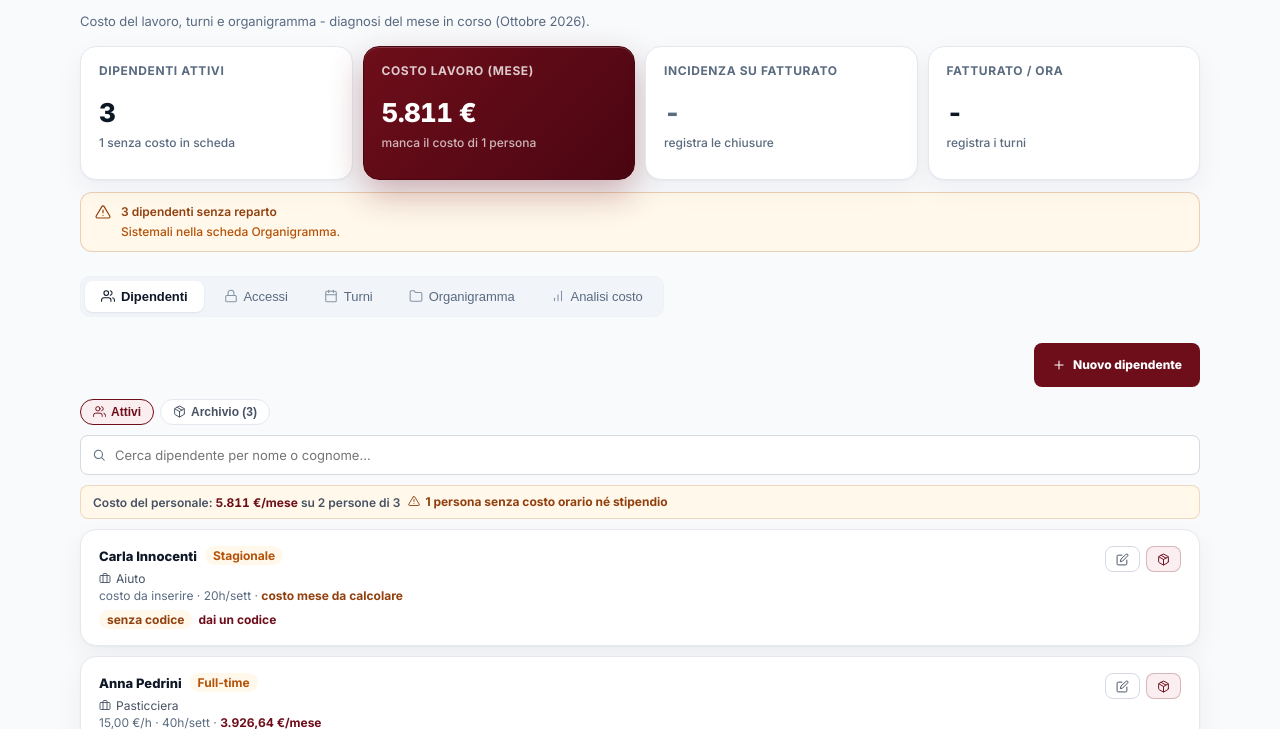
La settimana mostrata, e i confini che la spostano › attraversa il cambio dell'ora legale senza saltare un giorno
Click the button "Turni" at (348,296), box x1=308 y1=280 x2=389 y2=312
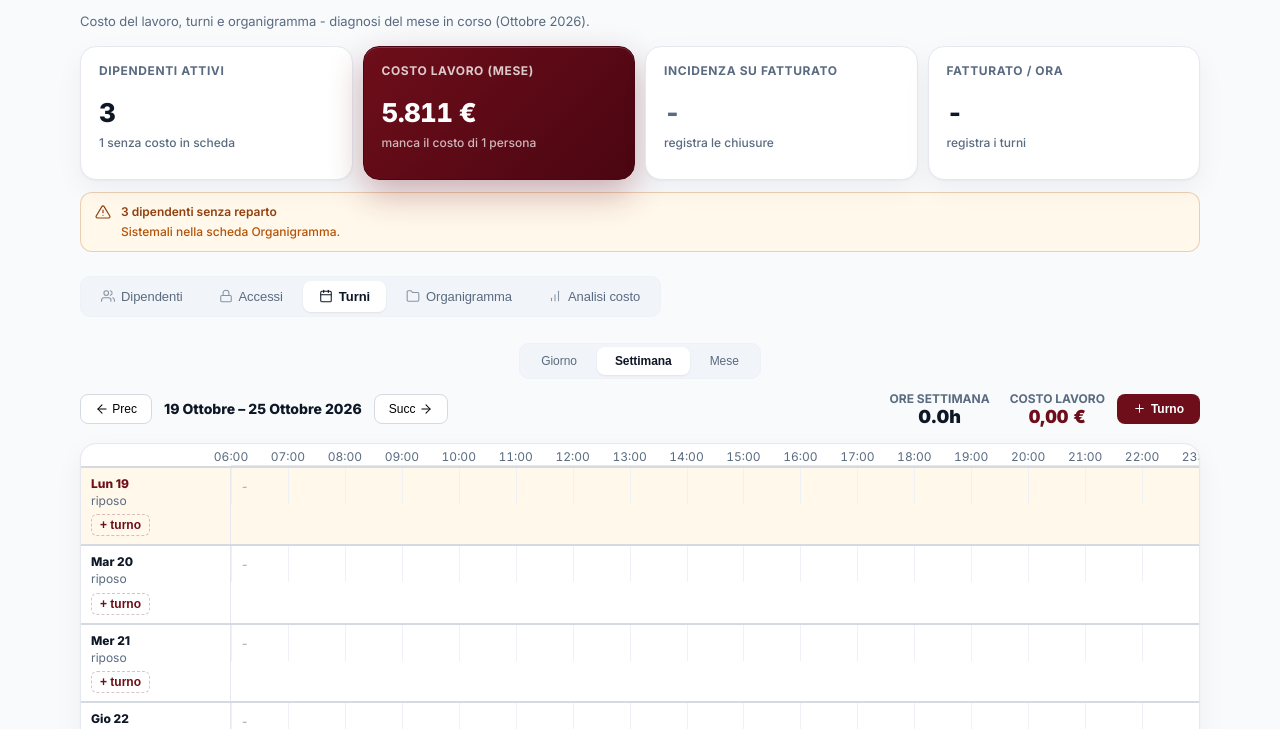
Check: the text "Costo lavoro" is shown, box x1=382 y1=62 x2=534 y2=78
Check: the text "19 ottobre" is shown, box x1=164 y1=400 x2=362 y2=417
Click the button with aria-label "Periodo successivo" at (411,408), box x1=374 y1=394 x2=448 y2=424
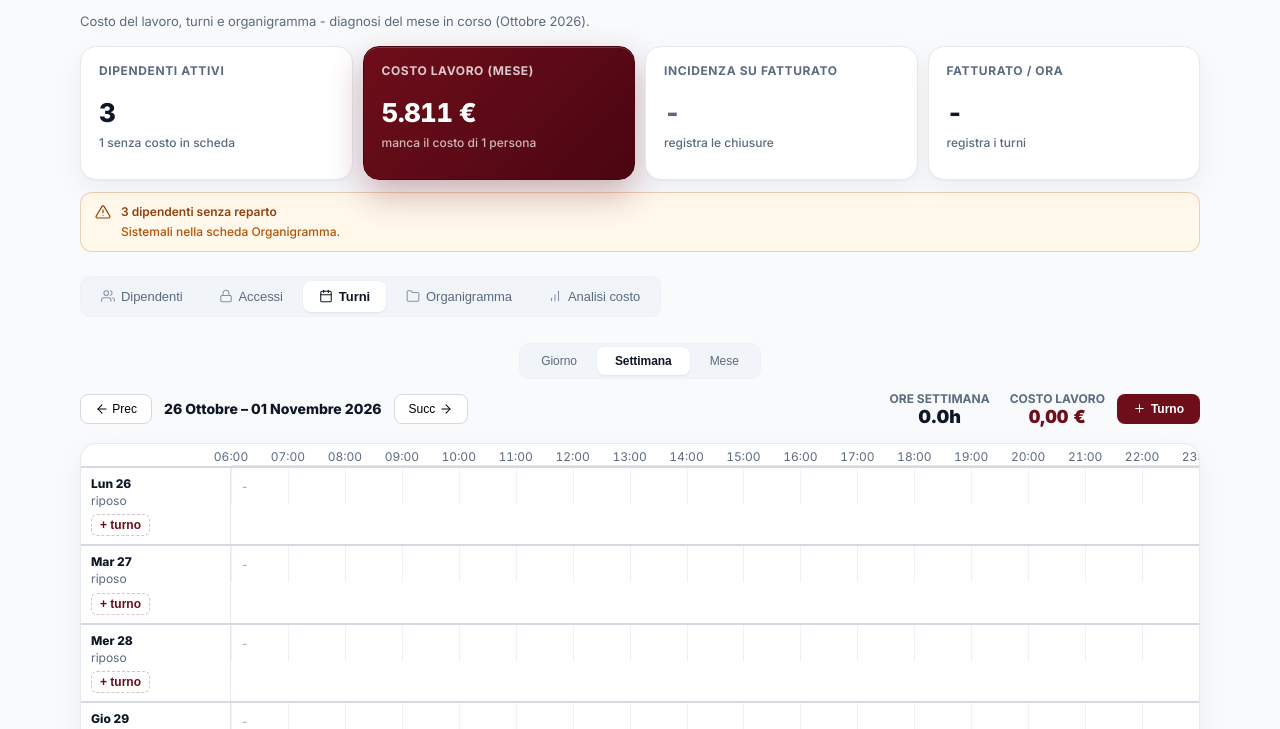
Check: the text "26 ottobre" is shown, box x1=164 y1=400 x2=382 y2=417
